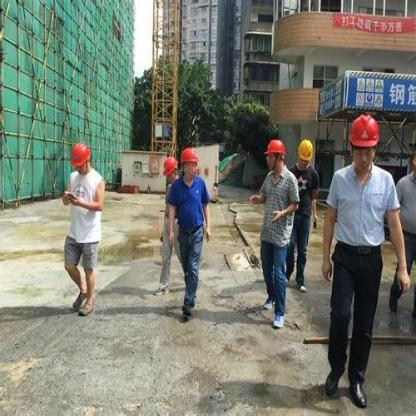capacete: (349, 113, 381, 173), (263, 137, 287, 170), (69, 140, 91, 175), (178, 145, 199, 178), (297, 137, 315, 171), (162, 154, 180, 184)
sem_colete_refletivo: (327, 163, 400, 254), (63, 169, 107, 244), (259, 165, 300, 245), (168, 175, 210, 234), (291, 164, 322, 224), (394, 171, 415, 243)
